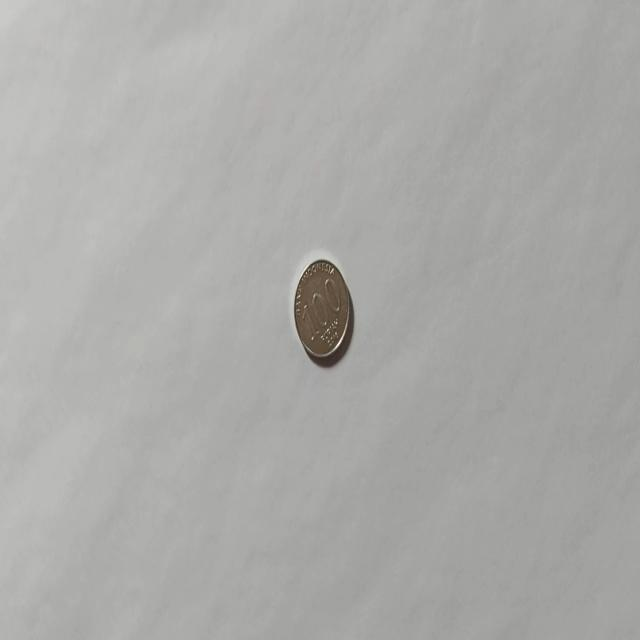seratus rupiah: (293, 257, 351, 362)
